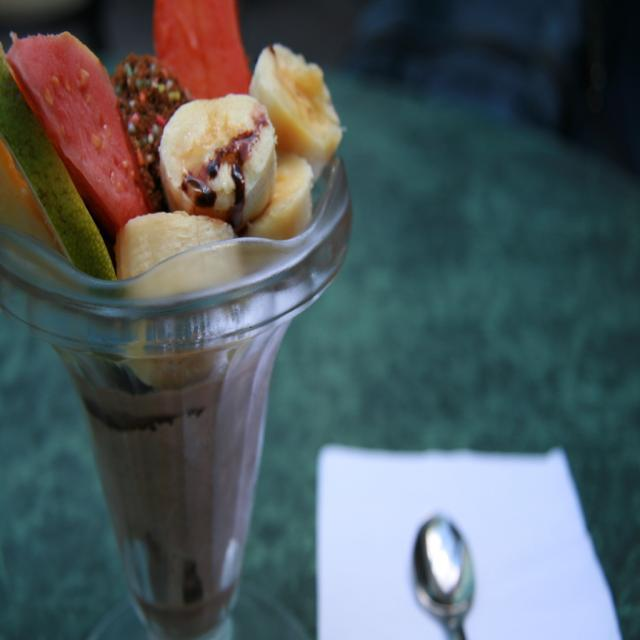Banana: (113, 211, 237, 393), (158, 91, 280, 229), (248, 39, 348, 181), (241, 146, 313, 272)
